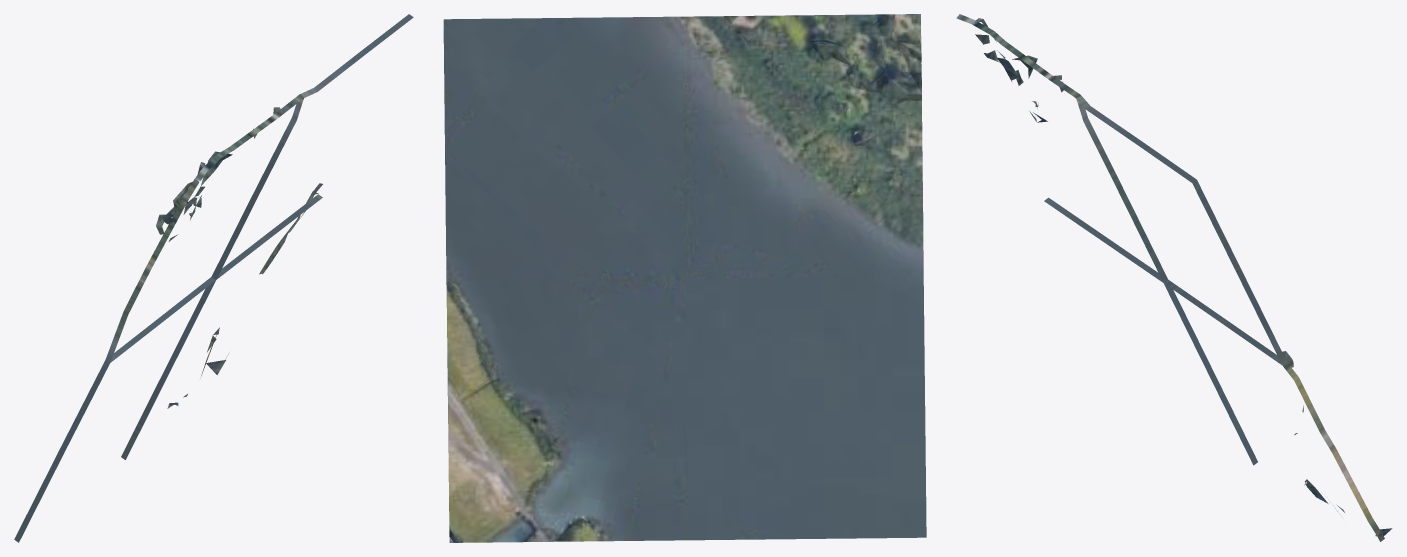
3 renders of one model, left to right at view 1: azimuth 30°, elevation 25°; view 2: azimuth 150°, elevation 25°; view 3: azimuth 270°, elevation 25°, orthographic. The views are drawn at different scales.
Size of the model in its own units: 306 by 281 by 266.
Materials: 1 (1 with a texture image).
